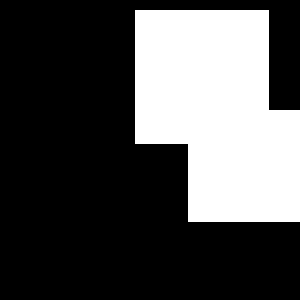circle: (135, 10, 269, 144), (188, 110, 300, 222)
triangle: (170, 53, 201, 84)
